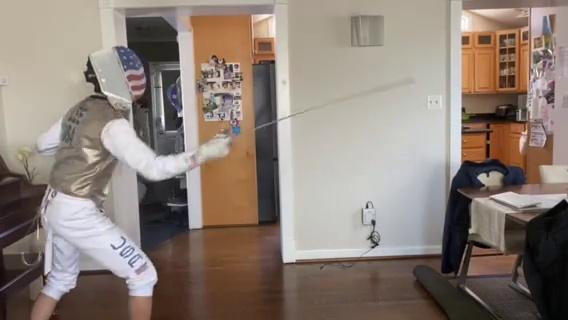blade-guard: (221, 127, 235, 149)
blade-tip: (362, 79, 416, 95)
fencing-blade: (217, 78, 418, 154)
